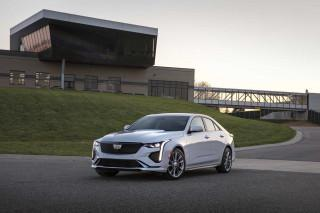cadillac: (111, 142, 125, 151)
